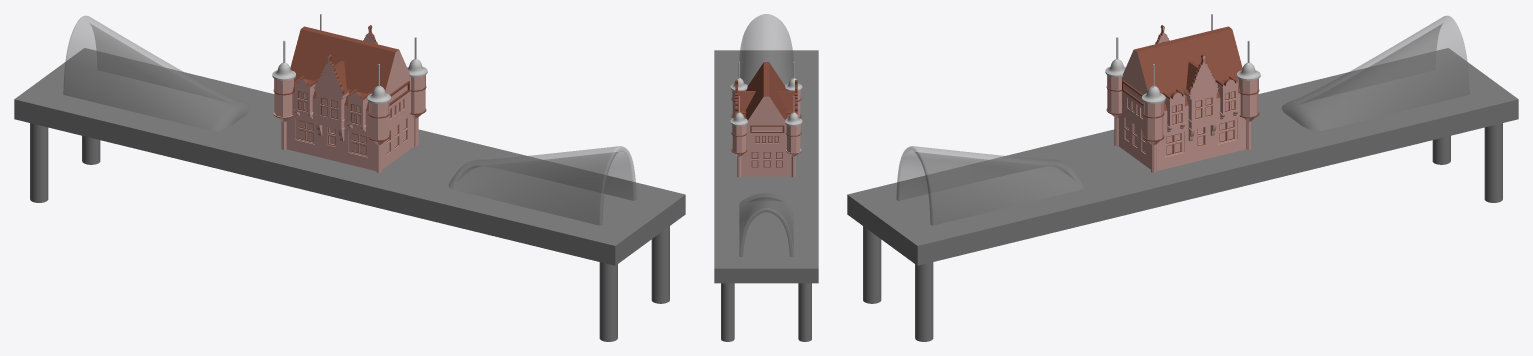
The model's file is st-enoch-station-v4.gltf.
3 views of the same model, side by side, from view 1: azimuth 30°, elevation 25°; view 2: azimuth 150°, elevation 25°; view 3: azimuth 270°, elevation 25° (orthographic). The views are drawn at different scales.
Visible parts, largest first — view 1: St Enoch Station, St Enoch Station Canopy.stl (×2), St Enoch Station v2.stl#3; view 2: St Enoch Station, St Enoch Station v2.stl#3, St Enoch Station Canopy.stl (×2); view 3: St Enoch Station, St Enoch Station Canopy.stl (×2), St Enoch Station v2.stl#3.
Boxes of the visible parts, <box> form: St Enoch Station: <box>14,48,685,341</box>; St Enoch Station Canopy.stl (×2): <box>63,15,636,225</box>; St Enoch Station v2.stl#3: <box>272,14,427,172</box>; St Enoch Station: <box>714,50,818,341</box>; St Enoch Station v2.stl#3: <box>730,61,802,177</box>; St Enoch Station Canopy.stl (×2): <box>739,14,793,256</box>; St Enoch Station: <box>847,48,1518,341</box>; St Enoch Station Canopy.stl (×2): <box>896,15,1469,225</box>; St Enoch Station v2.stl#3: <box>1105,14,1260,172</box>.
Bounding box in the file's own units: 0.2567 × 0.127 × 0.3676.
